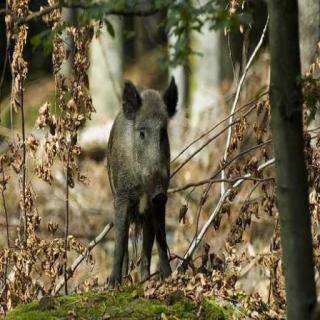Pig: (85, 58, 202, 287)
